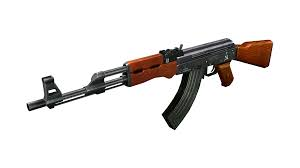gun: (26, 38, 274, 130)
